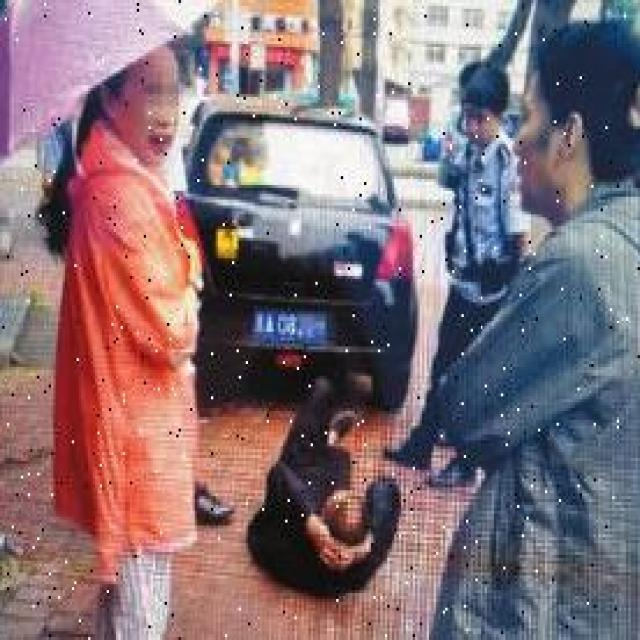fall: (260, 370, 399, 602)
